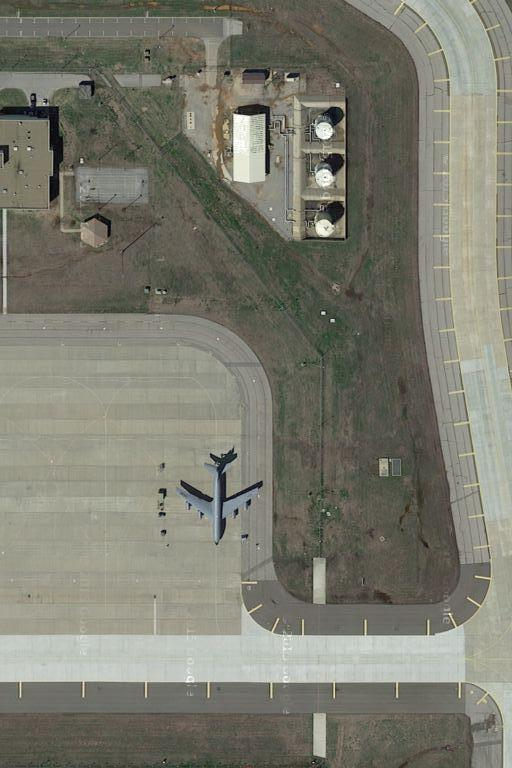KC-135: (179, 451, 262, 544)
